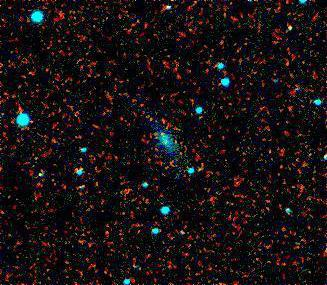star: (271, 12, 301, 42)
